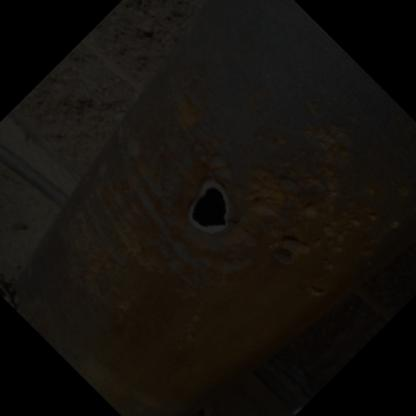burst: (171, 160, 256, 250)
